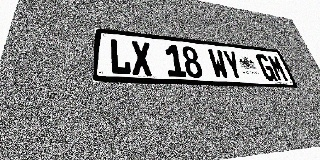1: (163, 44, 186, 77)
8: (181, 46, 204, 78)
G: (255, 54, 278, 81)
L: (110, 38, 132, 75)
M: (267, 55, 289, 82)
W: (207, 49, 230, 79)
X: (130, 41, 153, 76)
Y: (221, 50, 245, 80)
